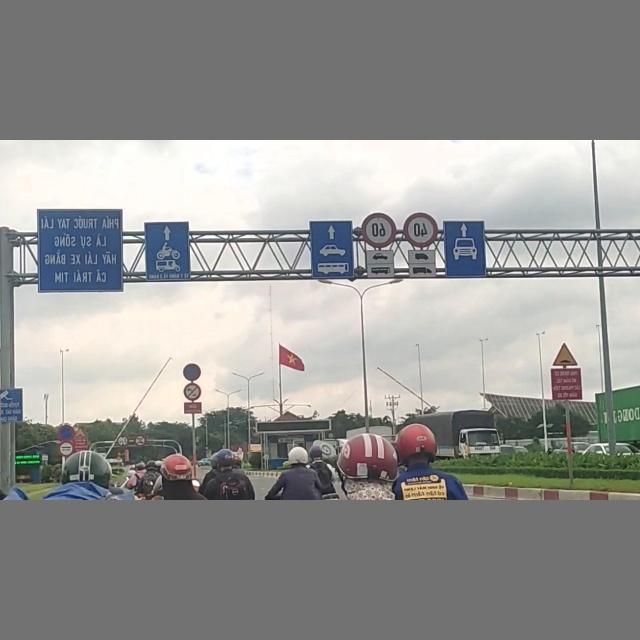Camera: (0, 388, 24, 423)
P.107: (135, 435, 147, 446), (117, 435, 129, 446)
P.111: (183, 383, 201, 401)
P.127*40: (403, 213, 438, 247)
P.127*60: (361, 213, 395, 247)
P.129: (58, 441, 75, 455)
P.130: (182, 363, 201, 381)
P.131a: (57, 425, 75, 441)
W.221b: (551, 342, 580, 366), (75, 427, 86, 437)
